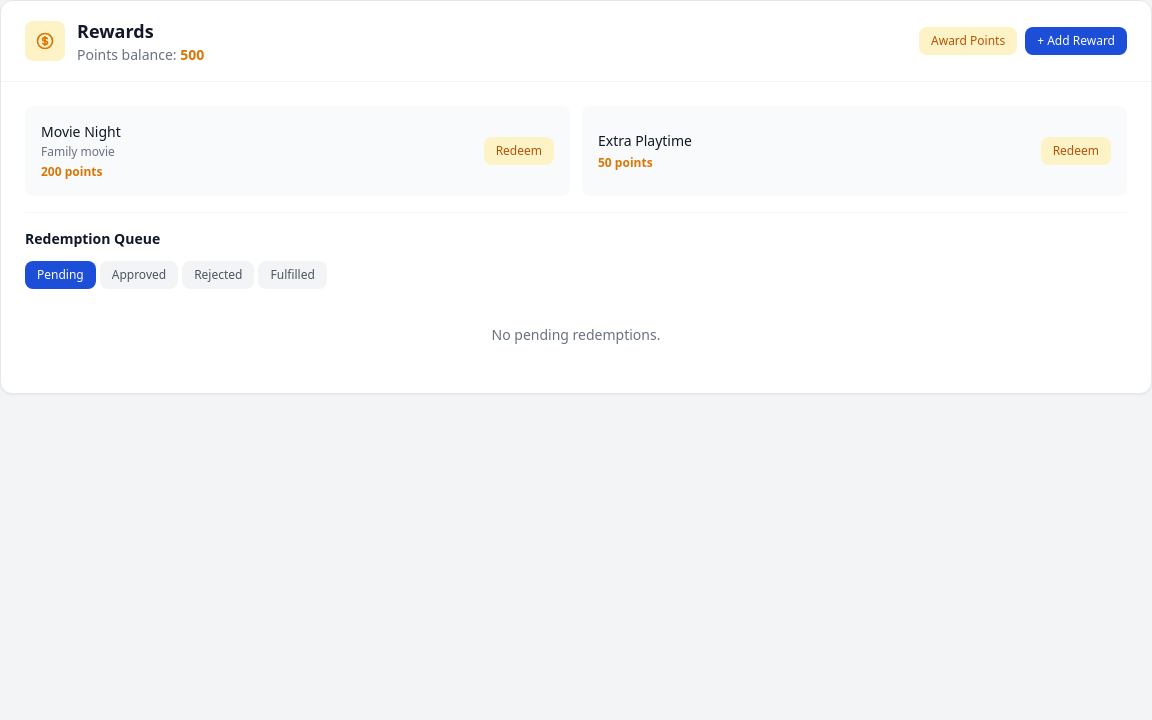
Test: RewardSection › opens the Add Reward form when + Add Reward button is clicked
The width and height of the screenshot is (1152, 720).
Click the button "+ Add Reward".
click(1076, 41)  # box [1025,27,1127,55]
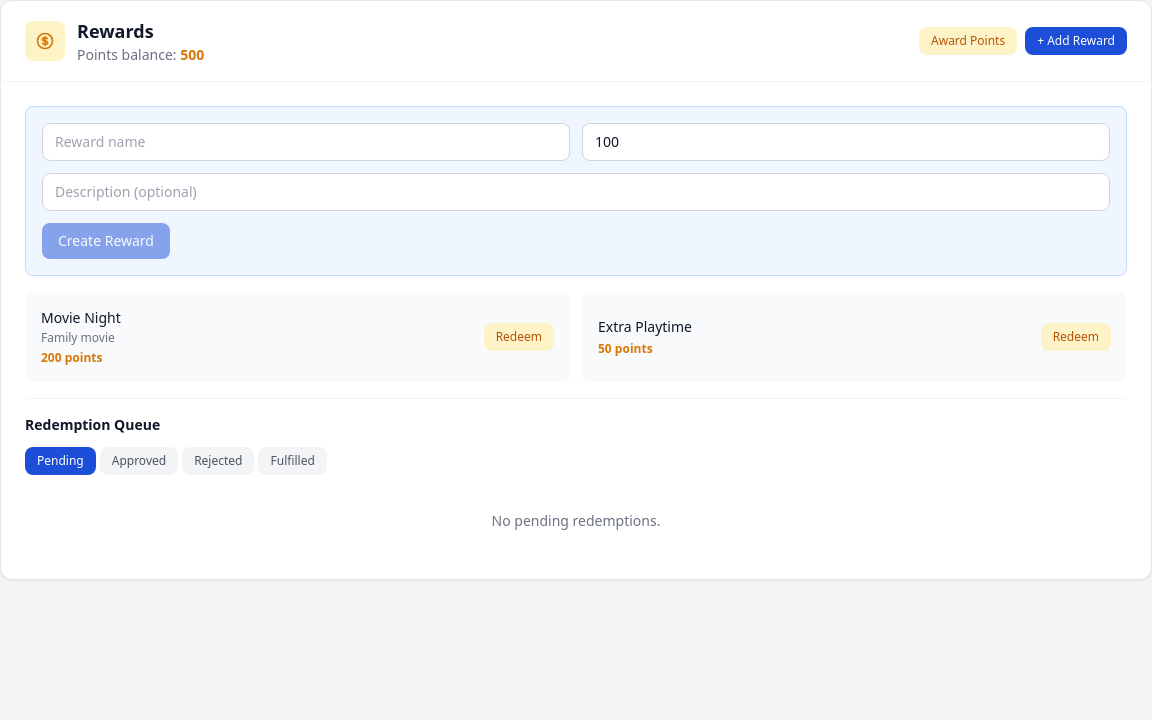
Result: the field with placeholder "Reward name" is shown at [42,123,570,161]
Result: the number field with placeholder "Cost (points)" is shown at [582,123,1110,161]
Result: the button "Create Reward" is shown at [42,223,170,259]
